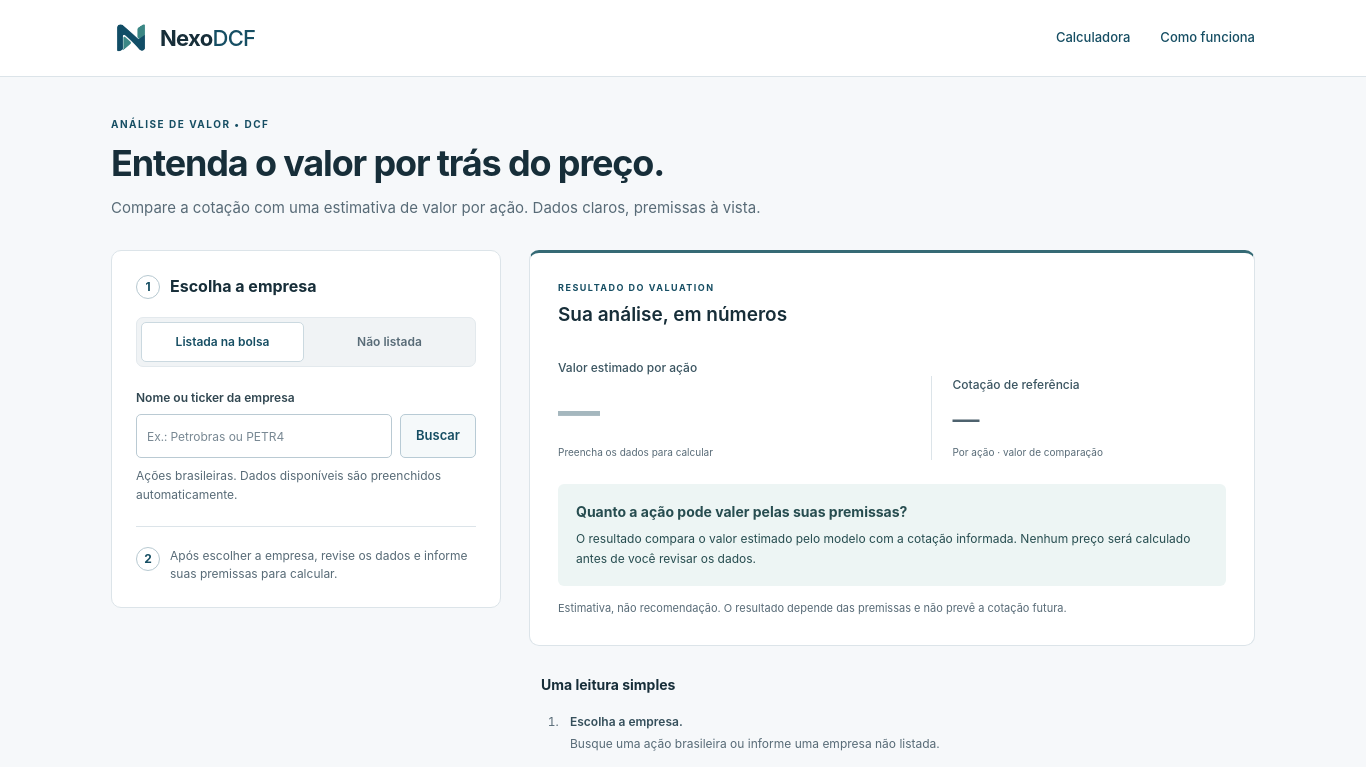
fluxos da interface › trocar o tipo limpa a empresa e os dados antigos
In the field with id "company-search": x=264, y=436 [136, 414, 392, 458], type "TEST3"
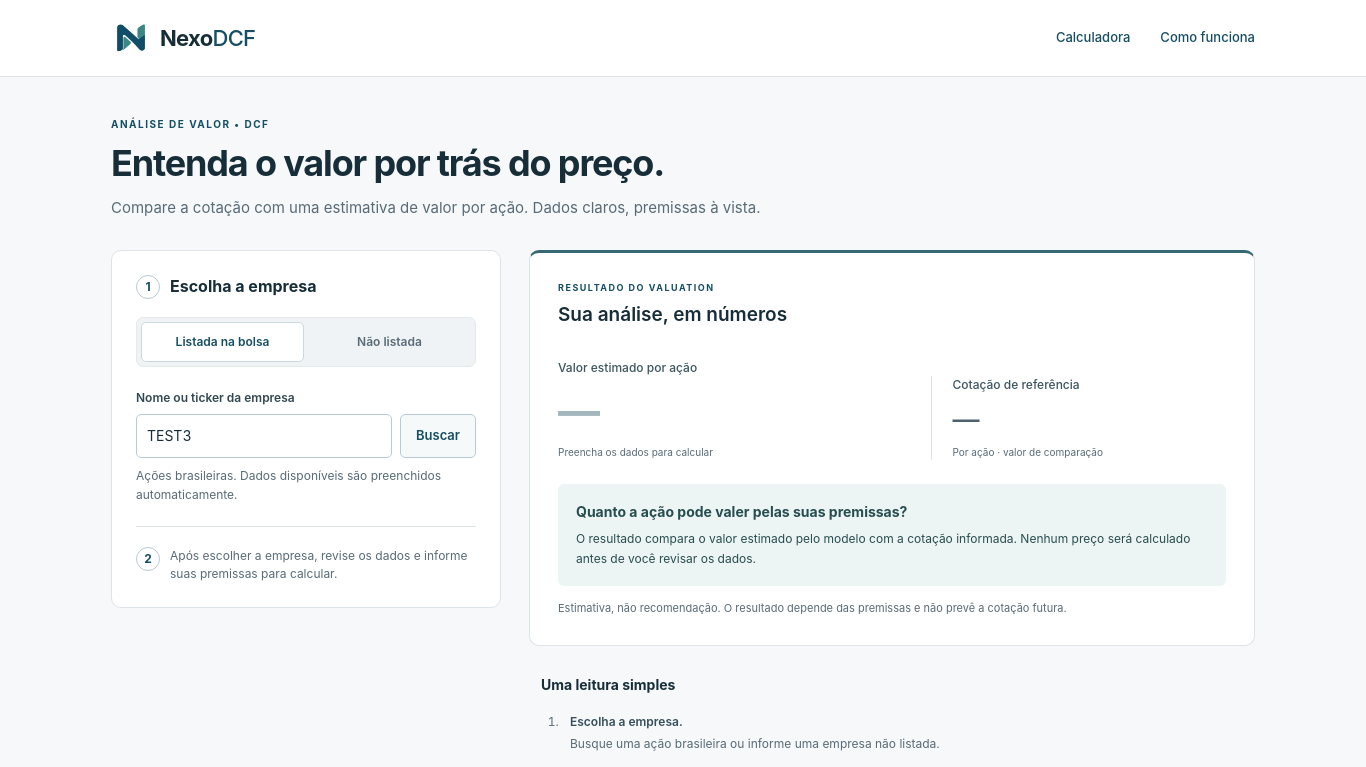
Click the button "Buscar": x=438, y=436 [400, 414, 476, 458]
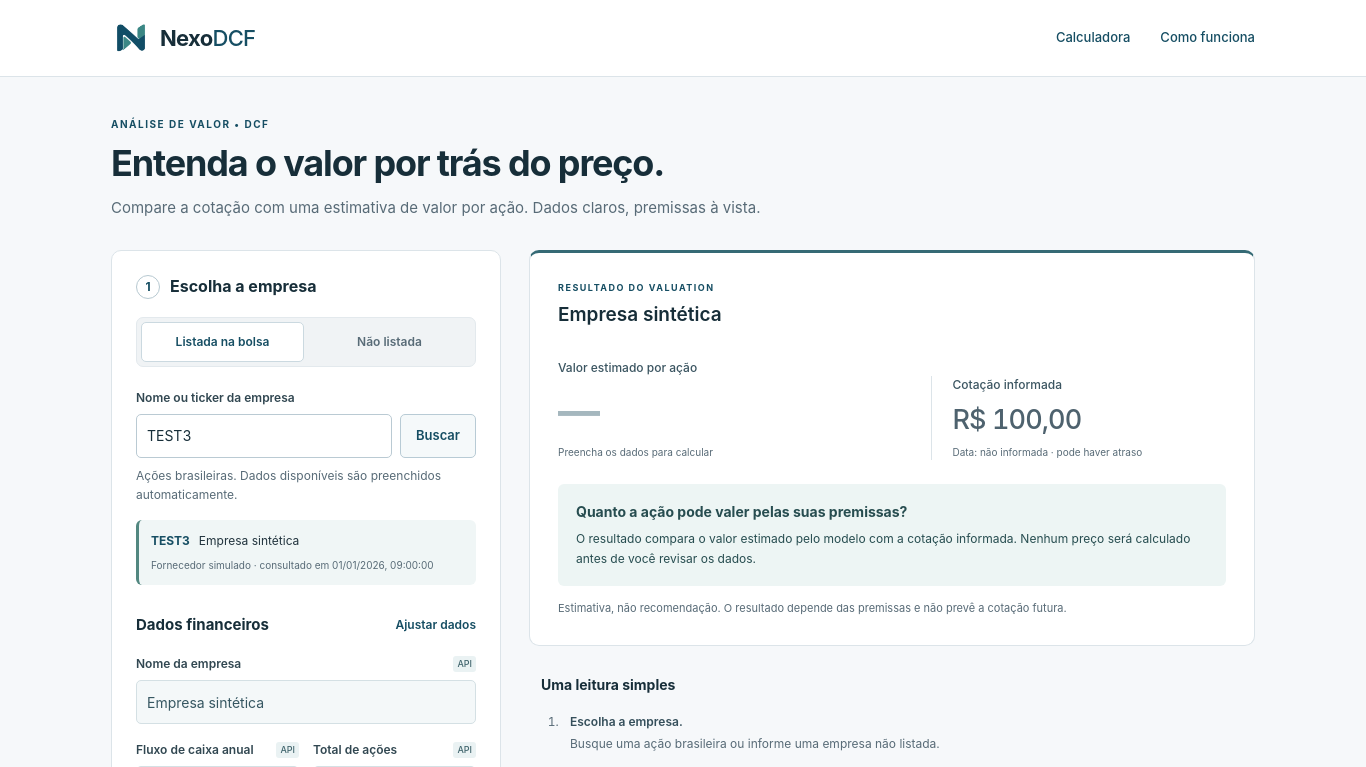
Expected: the field showing "Empresa sintética" is shown, [136, 680, 476, 724]
Click the button "Não listada": x=390, y=342 [308, 322, 471, 362]
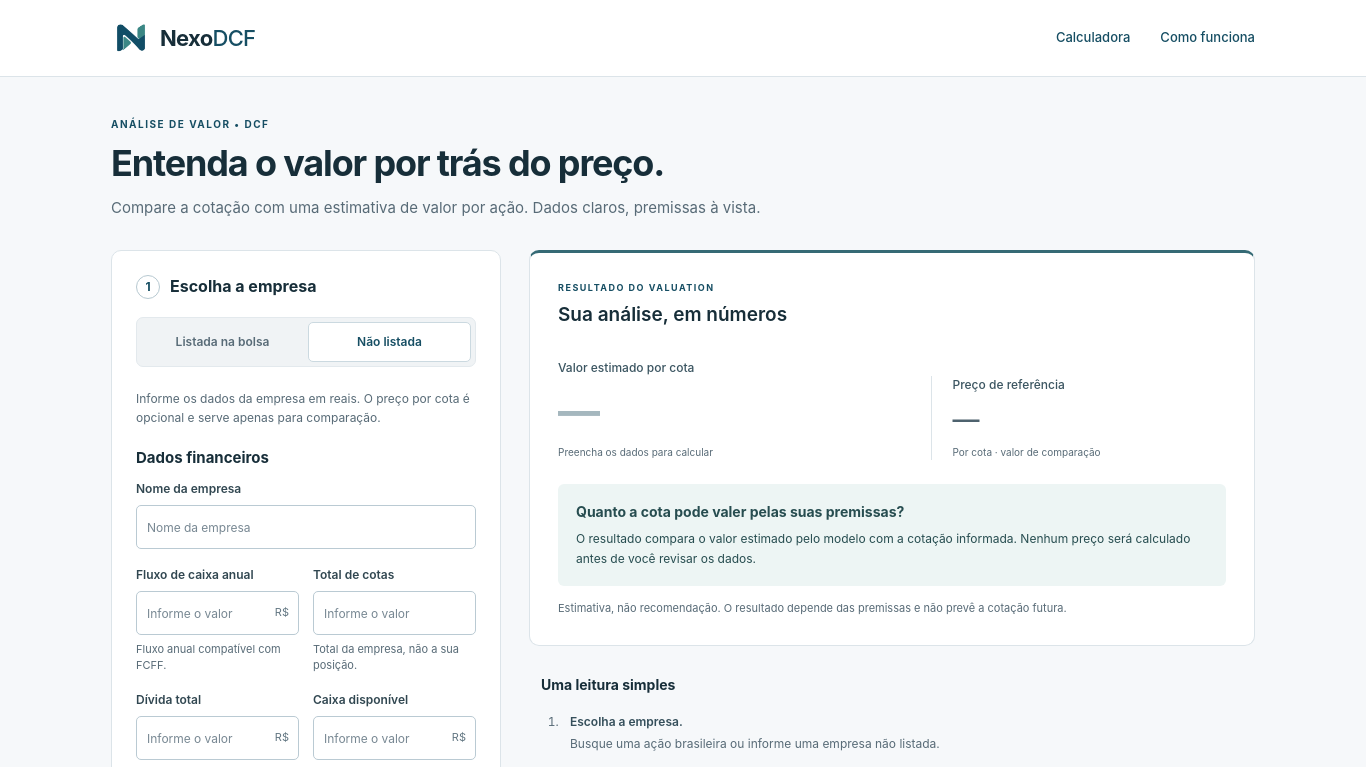
Expected: the field showing "Empresa sintética" is empty, [136, 505, 476, 549]
Expected: the text "TEST3" is gone
Expected: the field with id "fcf_inicial" is empty, [136, 591, 299, 635]
